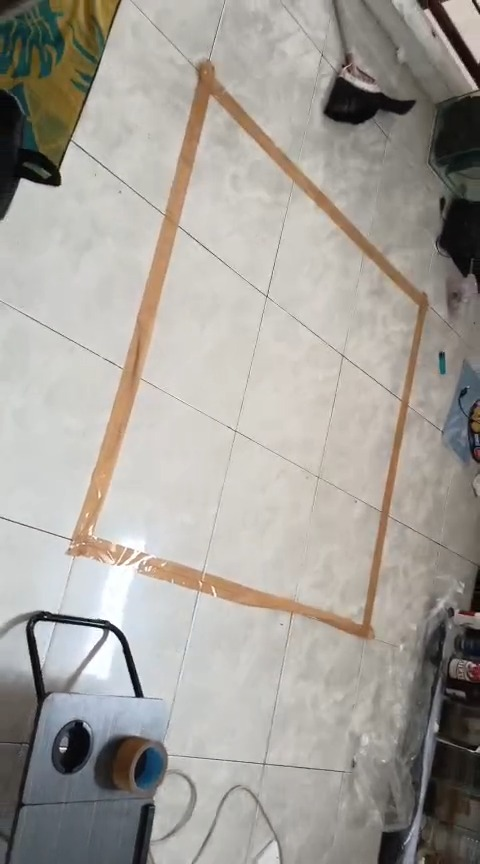floor marking: (68, 60, 427, 638)
